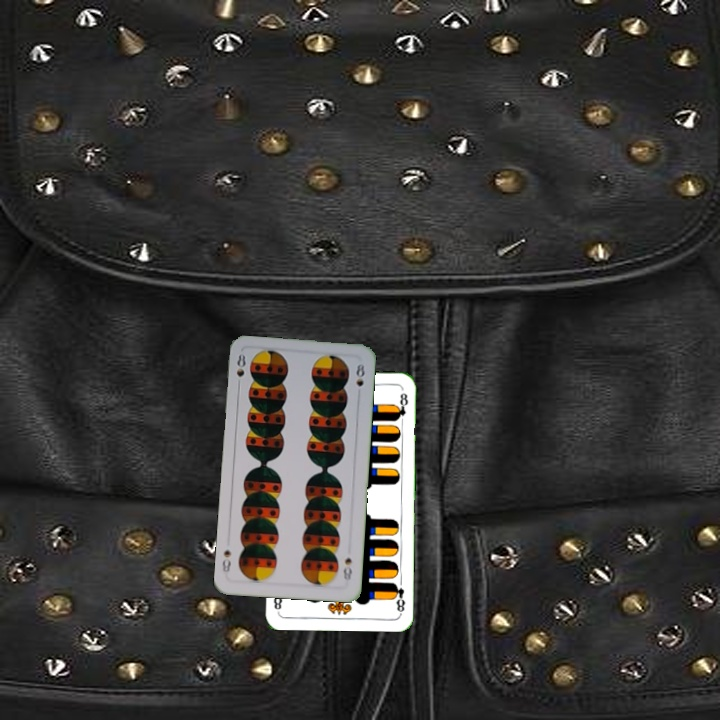E8: (389, 579, 408, 615)
S8: (339, 553, 355, 583), (232, 350, 248, 379)
